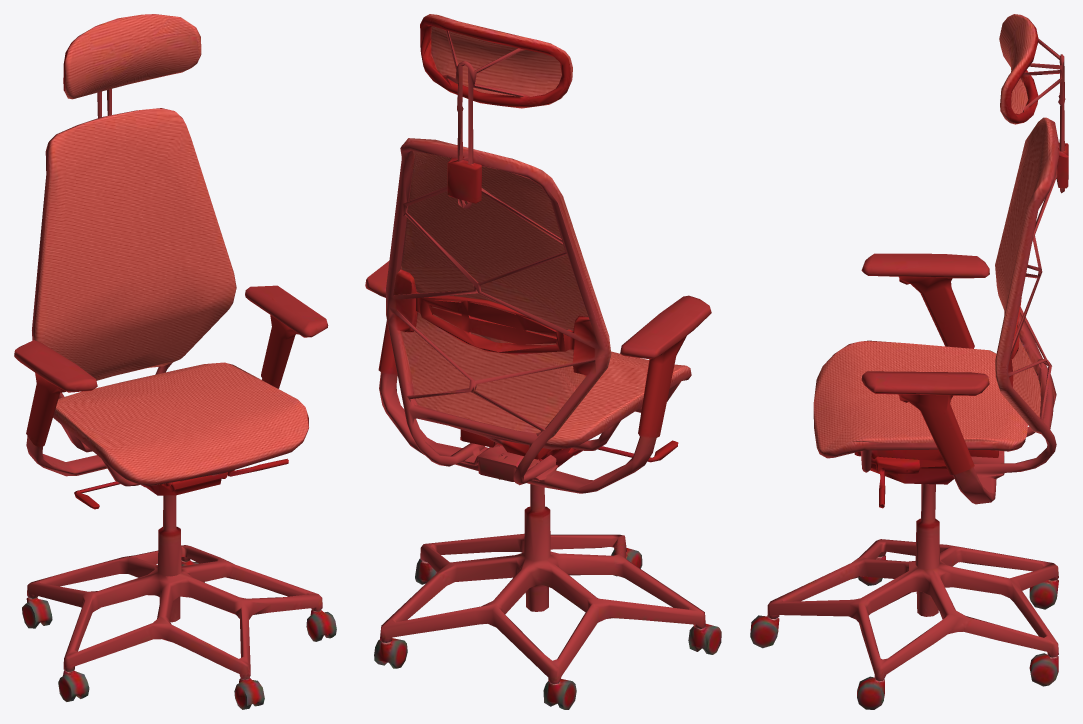
Rendered from 30 - STYRSPEL Gaming chair - red.glb.
The picture shows the model from 3 angles, left to right: view 1: azimuth 30°, elevation 25°; view 2: azimuth 150°, elevation 25°; view 3: azimuth 270°, elevation 25°; orthographic projection. The views are drawn at different scales.
Visible parts, largest first — view 1: ASY_ART_30613055_S01_NV01; view 2: ASY_ART_30613055_S01_NV01; view 3: ASY_ART_30613055_S01_NV01.
Part boxes in pixels (box(x1,y1,x2,y2)): ASY_ART_30613055_S01_NV01: box(14, 14, 336, 709); ASY_ART_30613055_S01_NV01: box(365, 14, 721, 709); ASY_ART_30613055_S01_NV01: box(750, 14, 1068, 709).
Size of the model in its own units: 0.6651 by 1.41 by 0.6674.
Materials: 1 (1 with a texture image).
